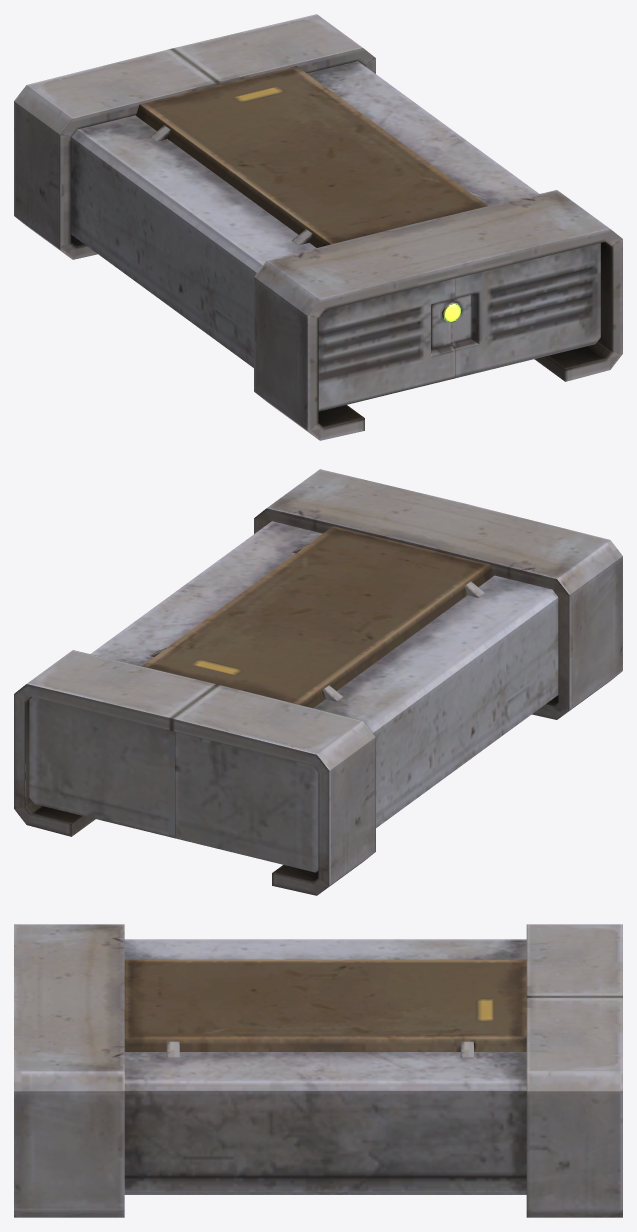
File: external_hard_drive_01.DAE
3 views of the same model, one above another, from view 1: azimuth 30°, elevation 25°; view 2: azimuth 150°, elevation 25°; view 3: azimuth 270°, elevation 25° (orthographic). The views are drawn at different scales.
Visible parts, largest first — view 1: external_hard_drive_01; view 2: external_hard_drive_01; view 3: external_hard_drive_01.
Boxes of the visible parts, bbox=[...] form: external_hard_drive_01: bbox=[14, 14, 622, 440]; external_hard_drive_01: bbox=[14, 469, 622, 895]; external_hard_drive_01: bbox=[14, 924, 622, 1217].
Size of the model in its own units: 0.2172 by 0.0941 by 0.35.
